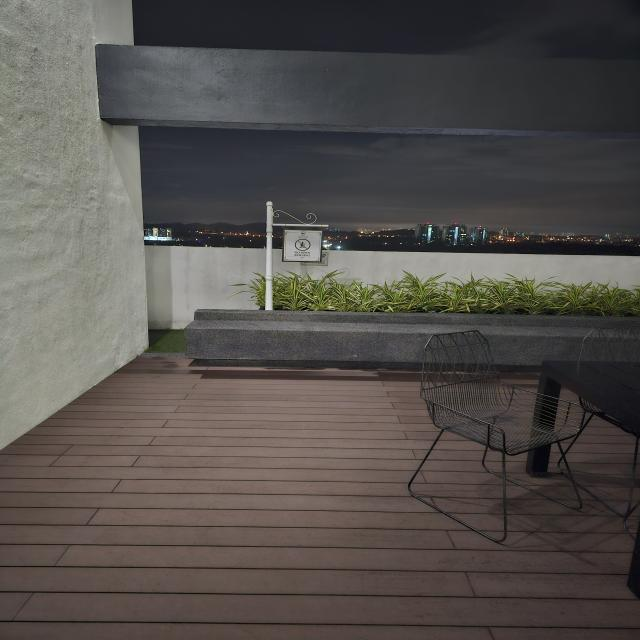footpath: (35, 365, 400, 640)
obstacle: (191, 200, 640, 370), (405, 328, 592, 546), (526, 357, 638, 520)
